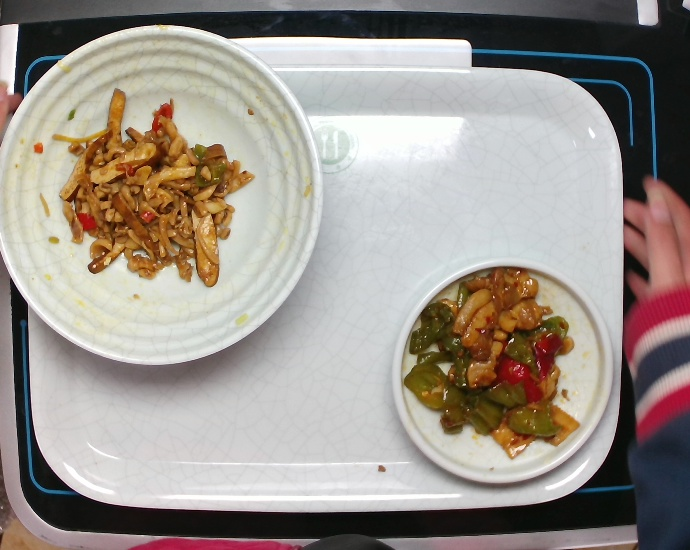JYsf-Da_Tang_Wan: (1, 23, 327, 369)
JYsf-Xiao_Yuan_Pan: (389, 254, 617, 486)
